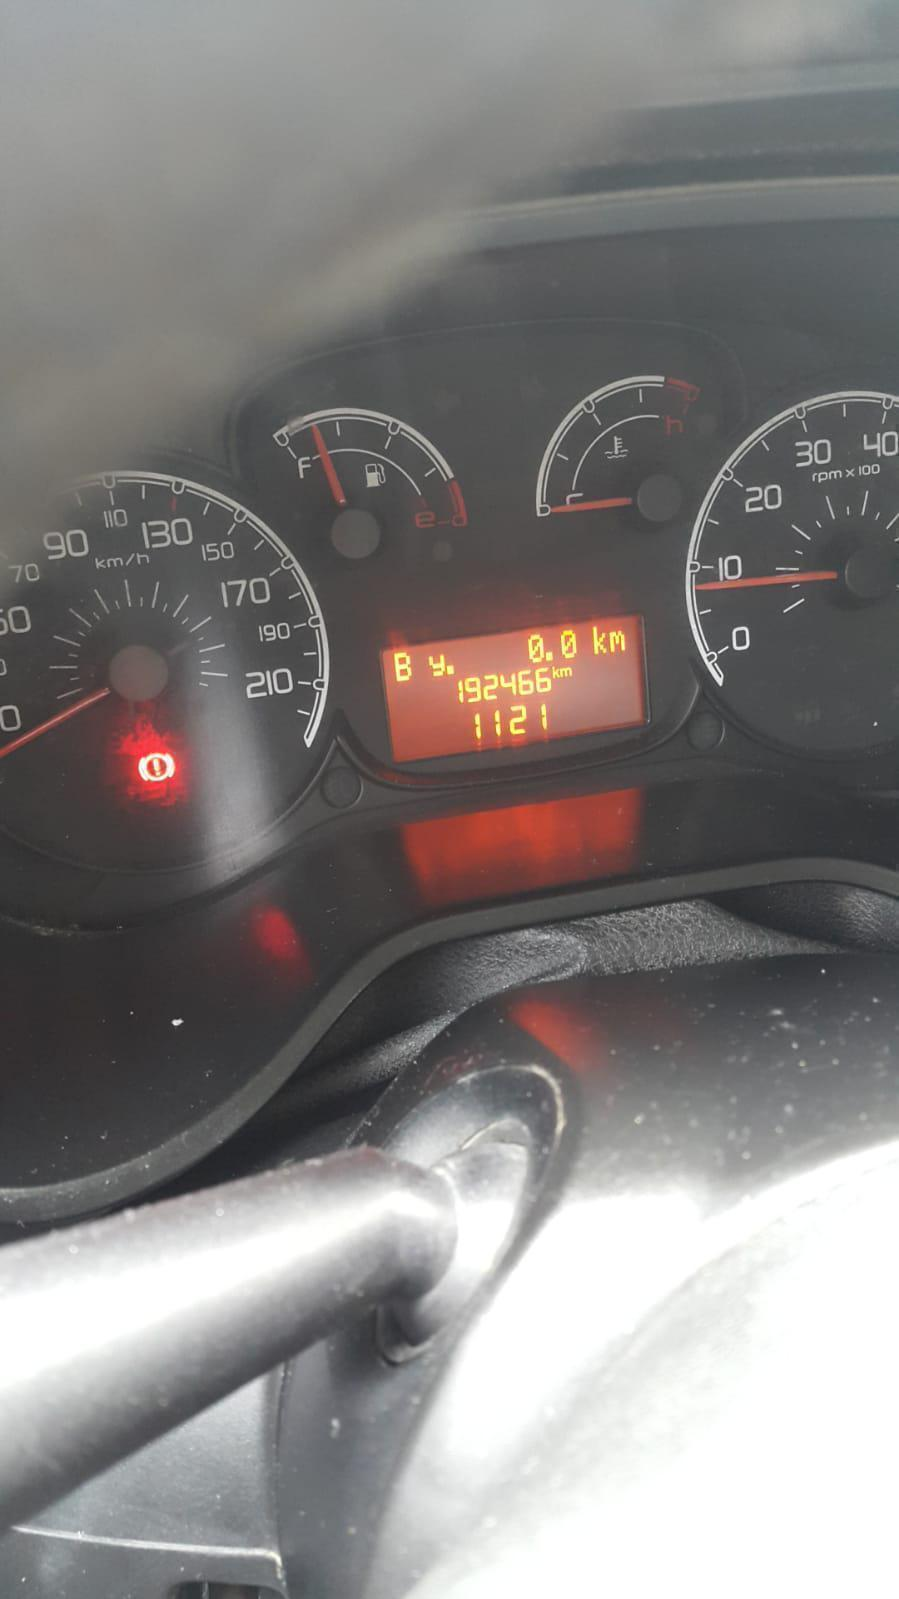,: (445, 663, 457, 674), (546, 649, 554, 663)
0: (522, 631, 543, 666), (560, 626, 578, 662)
1: (537, 698, 553, 737), (467, 709, 483, 745), (490, 708, 502, 743), (456, 675, 465, 711)
2: (509, 703, 525, 738), (483, 673, 499, 702)
4: (501, 668, 516, 698)
6: (517, 667, 533, 697), (535, 666, 550, 696)
9: (465, 675, 480, 703)
X: (393, 648, 415, 685), (593, 623, 607, 655), (427, 652, 445, 678), (608, 629, 625, 653), (559, 666, 574, 679), (552, 664, 560, 680)
odometer: (372, 605, 658, 769)
